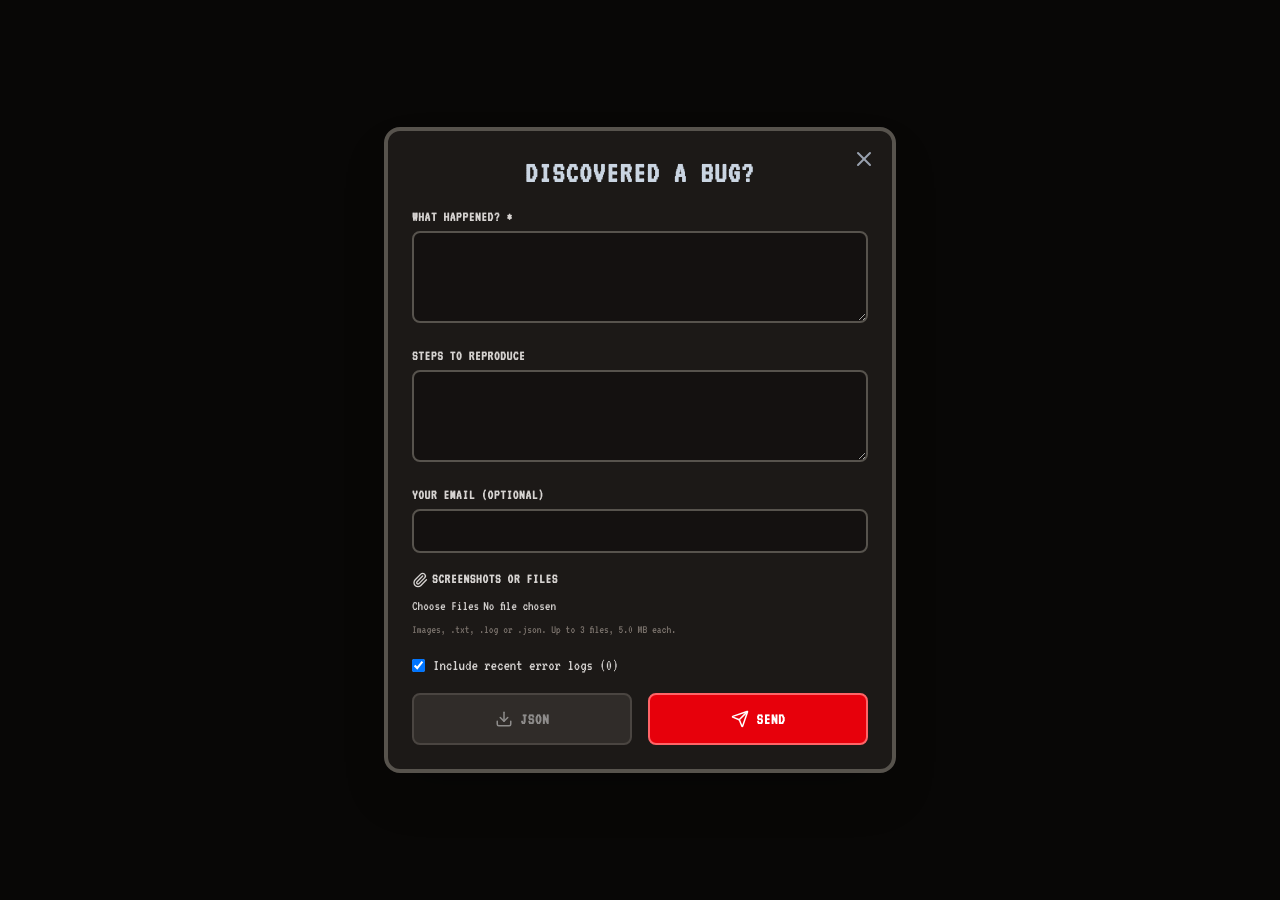
Test: BugReportModal › requires a description
This screenshot has width=1280, height=900.
What coordinates should you click on to do the following:
click the button "Send"
I would click on:
 (758, 719)
Its box is [648, 693, 868, 745].
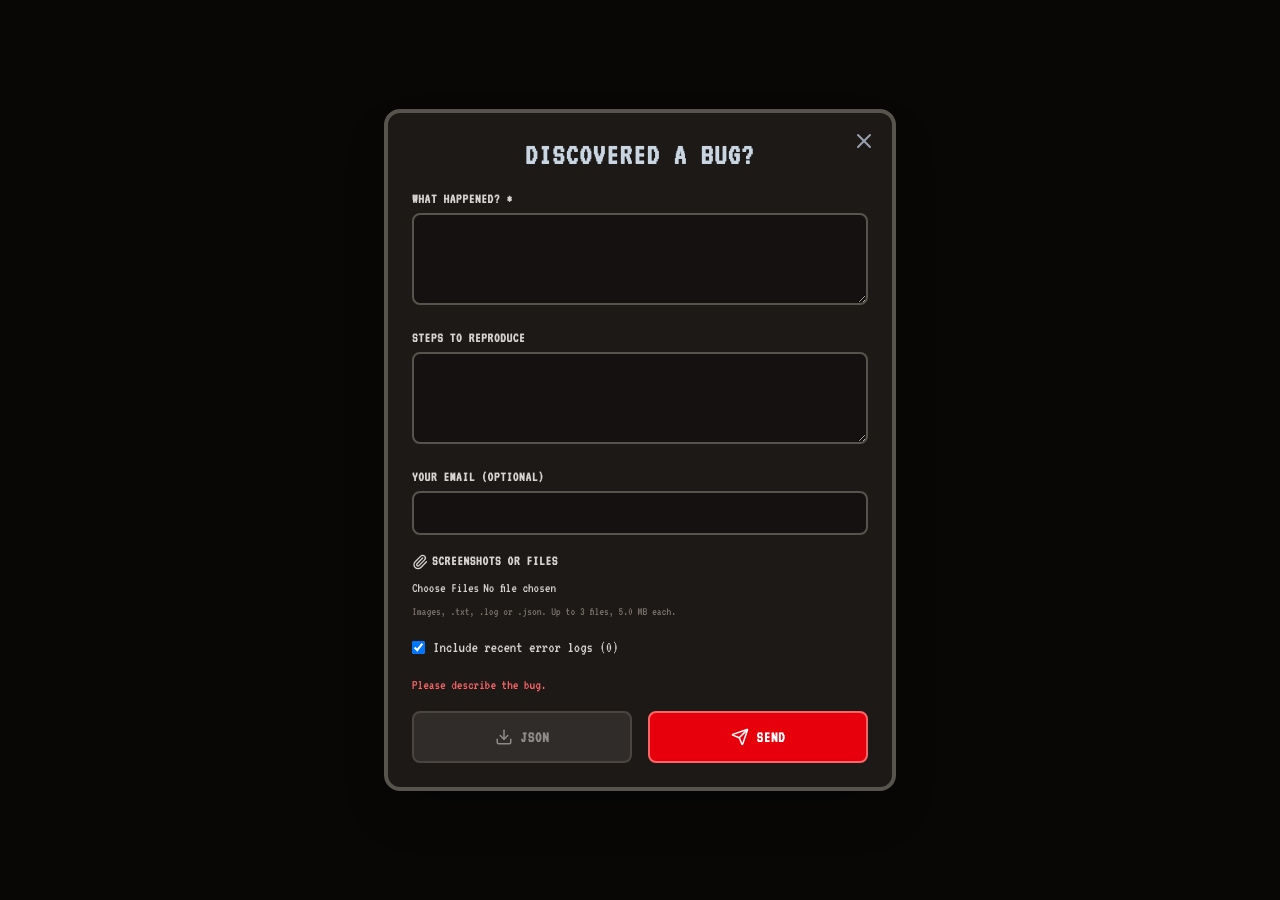
Check: the message reads "Please describe the bug.", box [412, 678, 546, 692]
